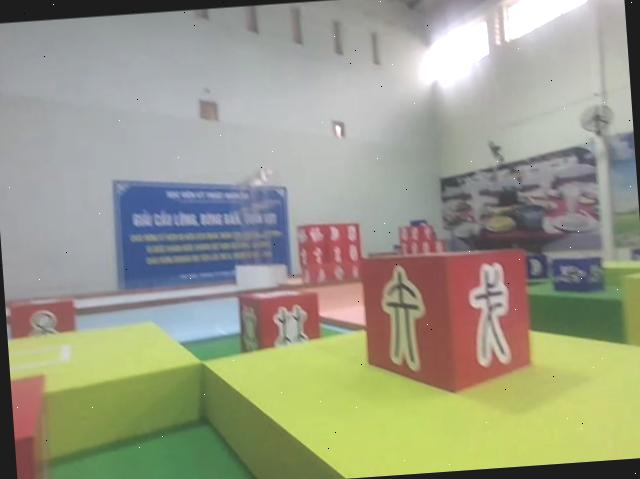R2 Fake: (361, 242, 538, 396)
R2 Real: (233, 285, 325, 352)
